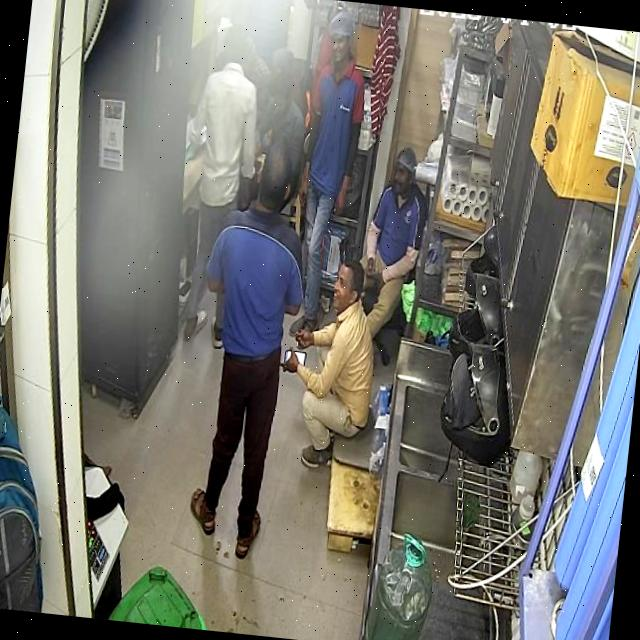helmet: (439, 343, 511, 467), (449, 272, 503, 355)
no_helmet: (257, 134, 292, 210), (332, 260, 365, 311), (391, 146, 416, 194)
